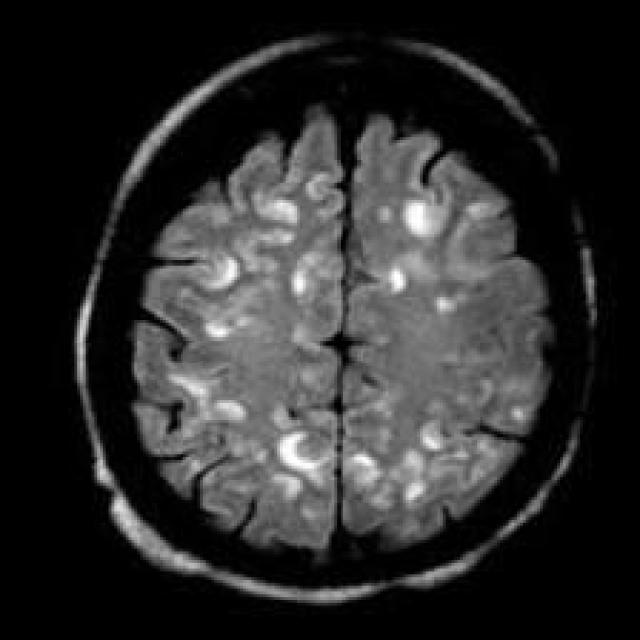no_tumor: (70, 29, 610, 612)
